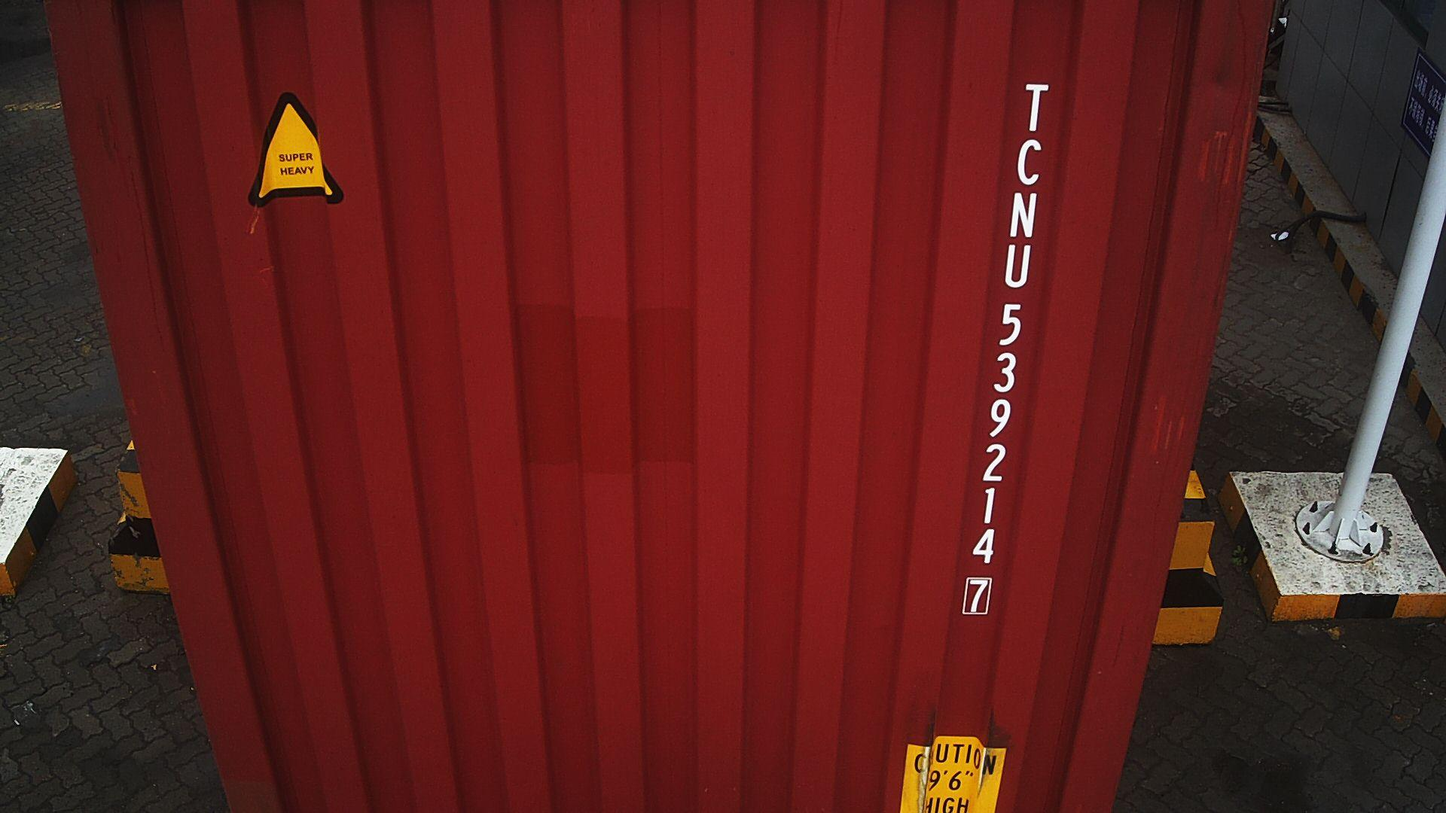container-numbers: (959, 73, 1051, 621)
